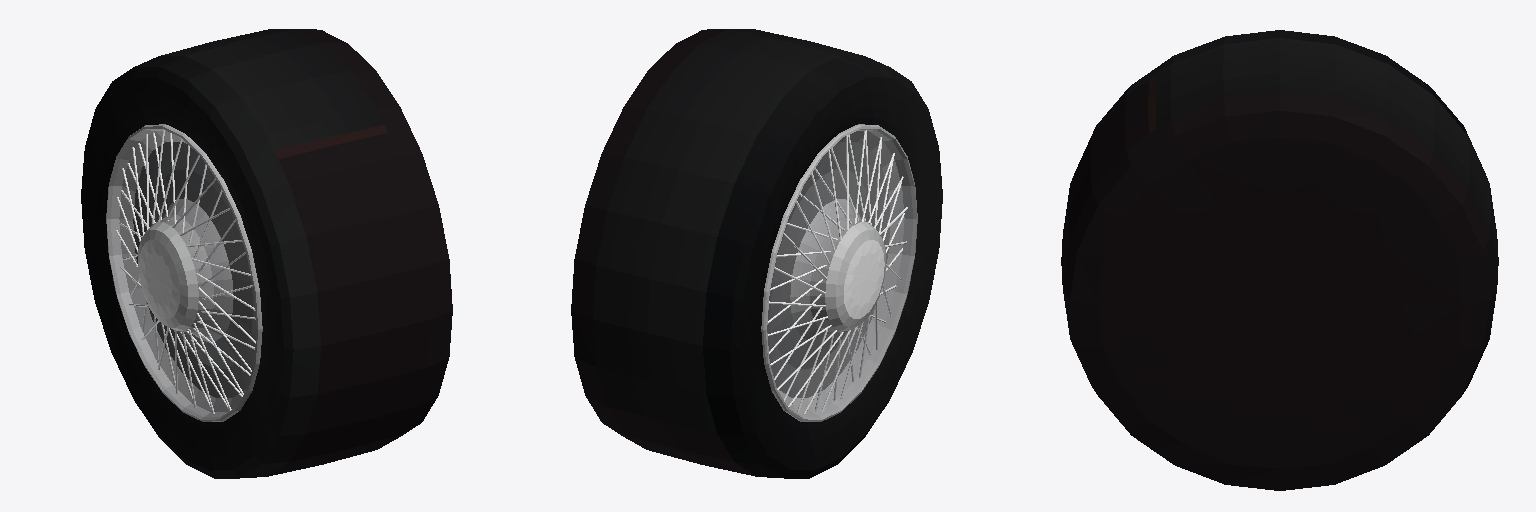
3 views of the same model, side by side, from view 1: azimuth 30°, elevation 25°; view 2: azimuth 150°, elevation 25°; view 3: azimuth 270°, elevation 25° (orthographic).
Parts seen in each view (by area): view 1: FRTIRE.001_Tire_front_R_Mesh.006; view 2: FRTIRE.001_Tire_front_R_Mesh.006; view 3: FRTIRE.001_Tire_front_R_Mesh.006.
Boxes of the visible parts, box(x1,y1,x2,y2) form: FRTIRE.001_Tire_front_R_Mesh.006: box(81, 29, 452, 478); FRTIRE.001_Tire_front_R_Mesh.006: box(571, 29, 942, 478); FRTIRE.001_Tire_front_R_Mesh.006: box(1061, 30, 1498, 490).
Bounding box in the file's own units: 0.2945 × 0.5725 × 0.5725.
1 materials, 1 textured.